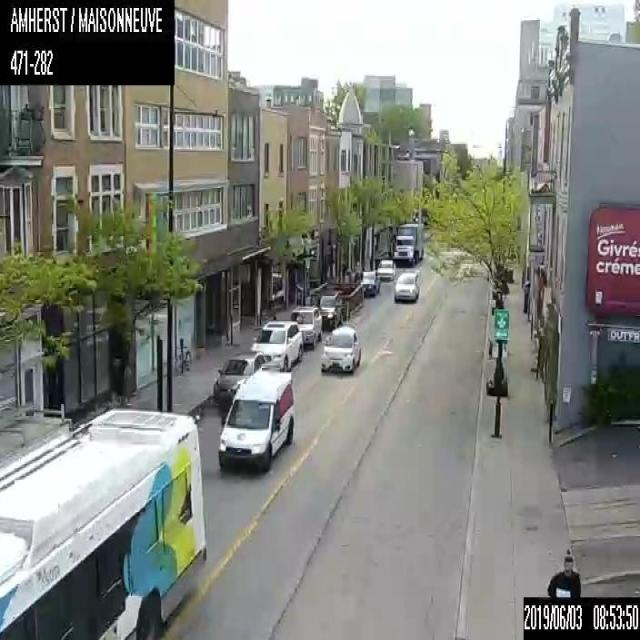bus: (0, 408, 206, 638)
pedestrian: (545, 547, 581, 596)
vehicle: (217, 368, 295, 474), (213, 350, 267, 401), (252, 320, 302, 371), (320, 327, 360, 372), (289, 306, 321, 348), (393, 221, 424, 263), (314, 290, 342, 328), (394, 272, 418, 301), (359, 270, 380, 296), (376, 258, 396, 282)
